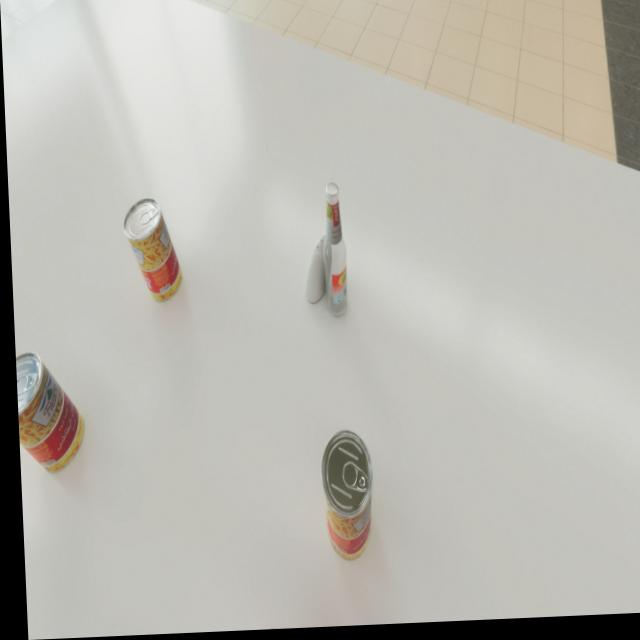Bottle: (318, 185, 347, 320)
Potato_sticks: (13, 349, 82, 474), (315, 432, 372, 565), (120, 198, 181, 305)
Salt: (300, 238, 331, 306)
